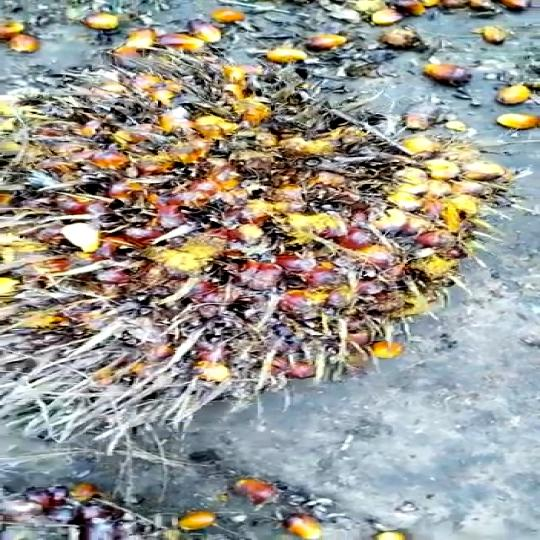terlalu masak: (0, 36, 533, 447)
